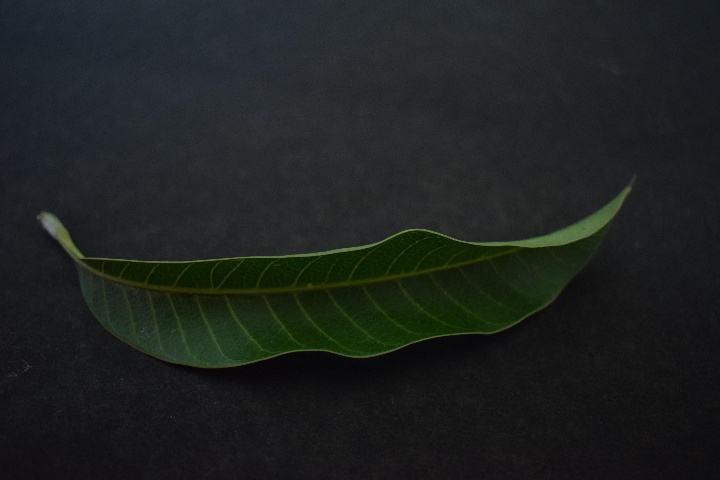healthy: (52, 195, 668, 380)
